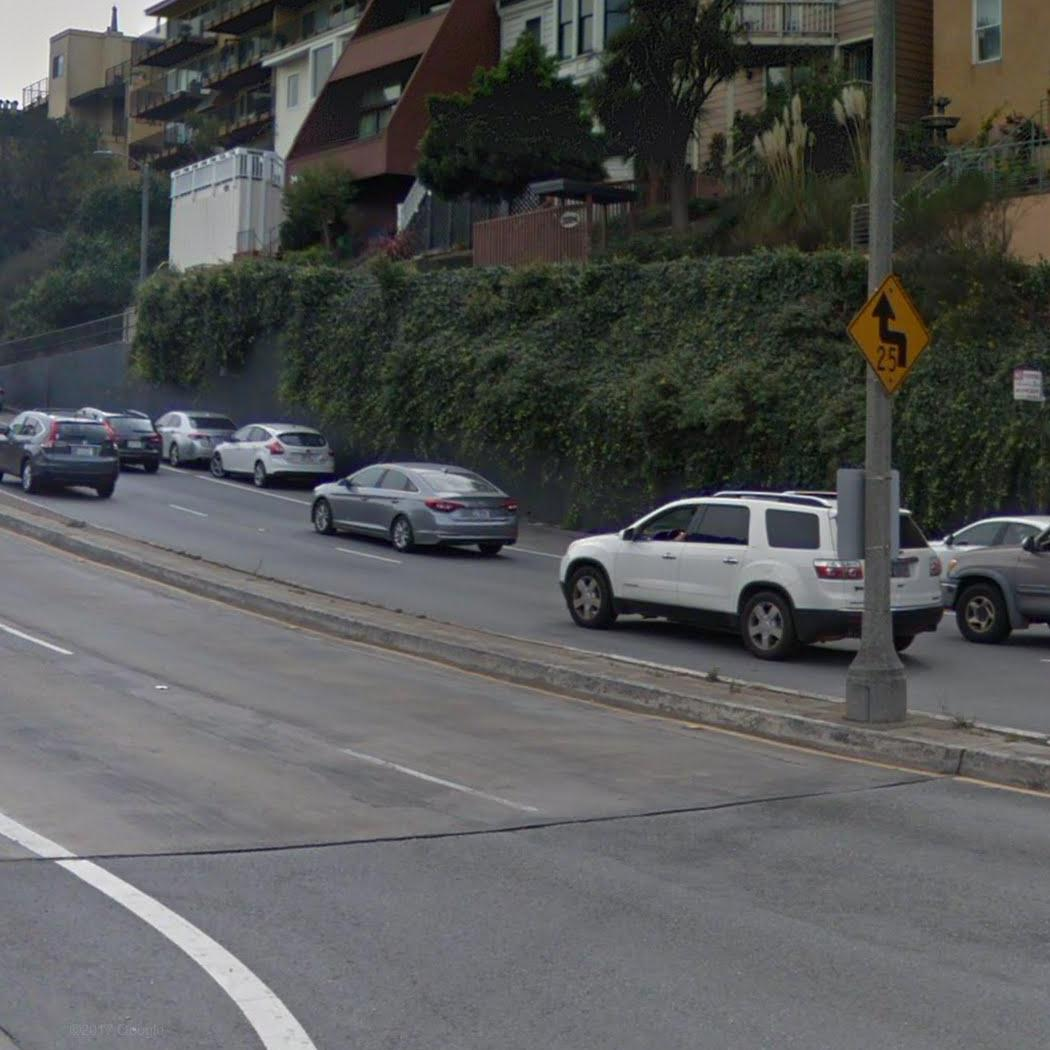No Parking: (1013, 367, 1045, 406)
